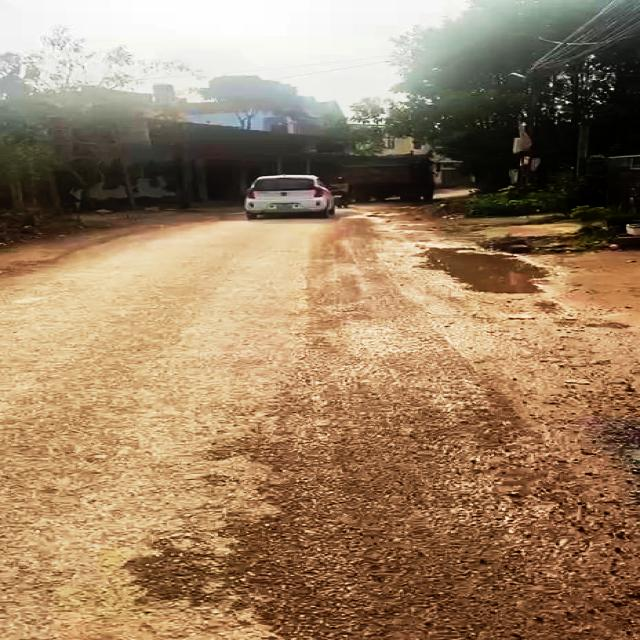pothole: (407, 241, 561, 297)
